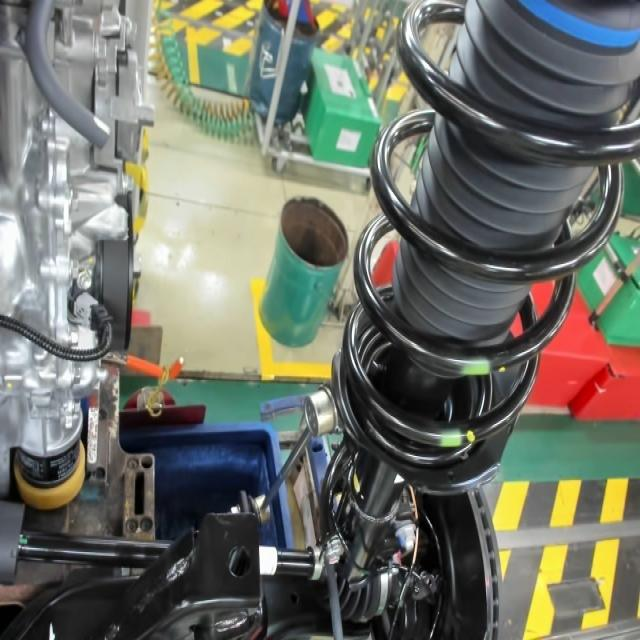Bumper-BR: (518, 0, 637, 52)
Drive Shaft-PT: (259, 544, 279, 577)
